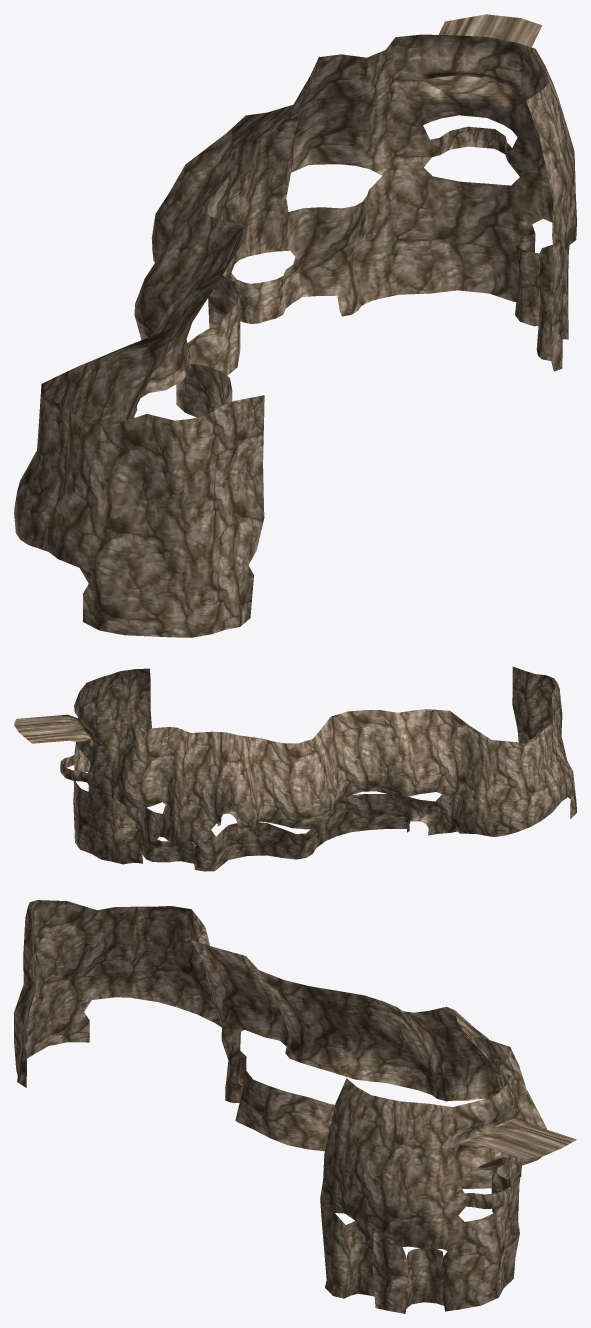
The model's file is EKH_GROTTO_PS_GR_OBJECT34.fbx.
3 renders of one model, top to bottom at view 1: azimuth 30°, elevation 25°; view 2: azimuth 150°, elevation 25°; view 3: azimuth 270°, elevation 25°, orthographic. The views are drawn at different scales.
Parts seen in each view (by area): view 1: EKH_GROTTO_PS_GR_OBJECT34; view 2: EKH_GROTTO_PS_GR_OBJECT34; view 3: EKH_GROTTO_PS_GR_OBJECT34.
Boxes of the visible parts, left/top/right/bottom form: EKH_GROTTO_PS_GR_OBJECT34: left=14, top=14, right=576, bottom=637; EKH_GROTTO_PS_GR_OBJECT34: left=14, top=666, right=576, bottom=871; EKH_GROTTO_PS_GR_OBJECT34: left=14, top=900, right=576, bottom=1313.
Size of the model in its own units: 403426 by 138329 by 338697.
Materials: 1 (1 with a texture image).
